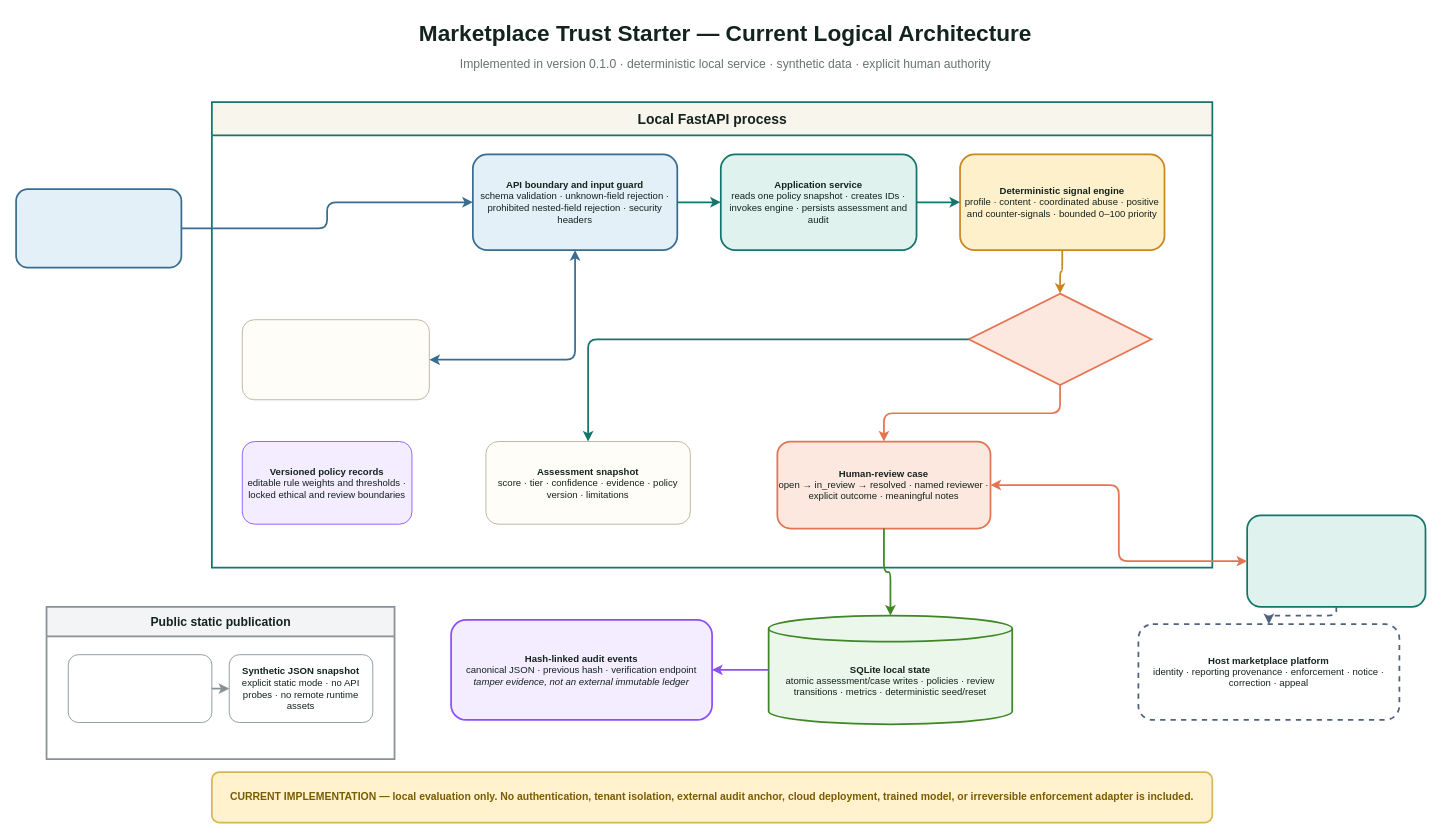
Some shapes in this 1441 by 838 pixel diagram are drawn without their labels. The shapes that lost their labels are listed below. From the top down, each one's centre as x and y in pixels, then its label:
At (x=98, y=228): "Browser or API client operator UI · OpenAPI · JSON requests".
At (x=1059, y=338): "Review threshold reached?".
At (x=335, y=359): "Served web experience landing · dashboard · architecture · same-origin API calls".
At (x=1336, y=560): "Named human reviewer claim · interpret context · record outcome and notes".
At (x=139, y=688): "GitHub Pages artifact landing · architecture · read-only dashboard".
